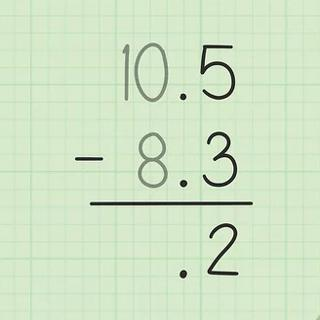.: (167, 169, 189, 196), (172, 85, 193, 104), (174, 264, 196, 282)
0: (133, 40, 172, 105)
1: (110, 35, 134, 102)
2: (203, 213, 245, 282)
3: (199, 123, 239, 197)
5: (200, 37, 241, 101)
8: (125, 126, 170, 192)
